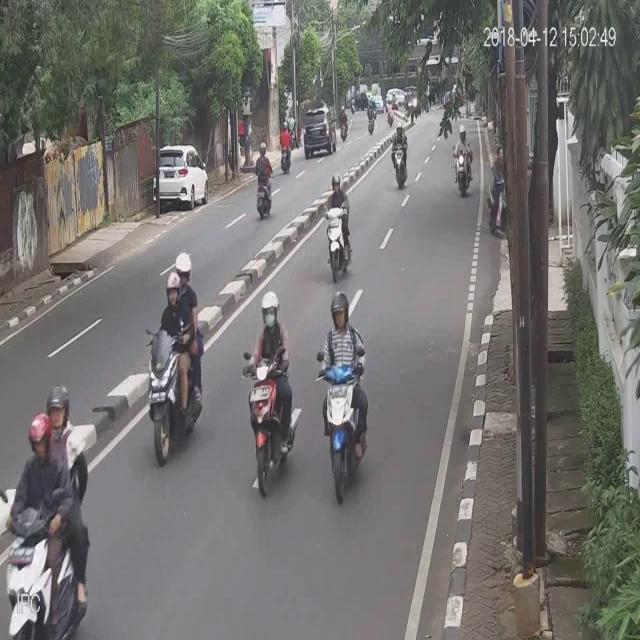bus: (2, 380, 90, 639), (147, 250, 205, 468), (313, 290, 369, 508), (241, 287, 297, 501), (322, 170, 353, 282), (250, 137, 276, 221), (451, 118, 473, 204), (388, 113, 409, 189), (276, 115, 292, 176)
motorcycle: (154, 140, 210, 210), (303, 105, 338, 157)
